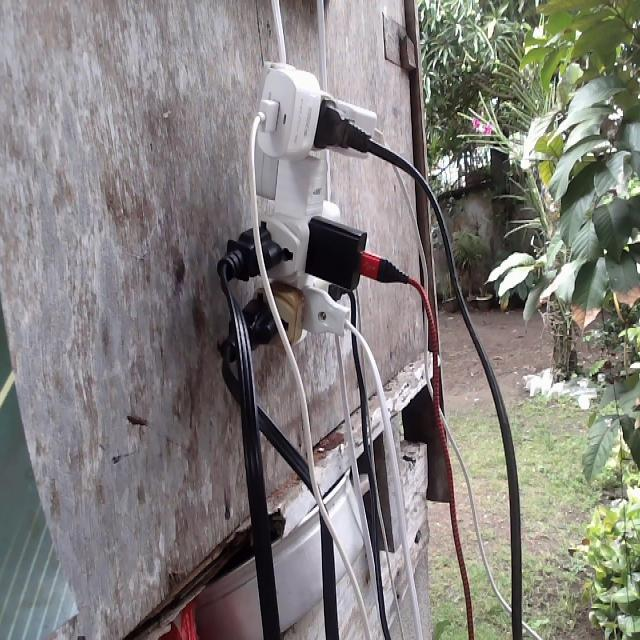-: (215, 59, 409, 368)
